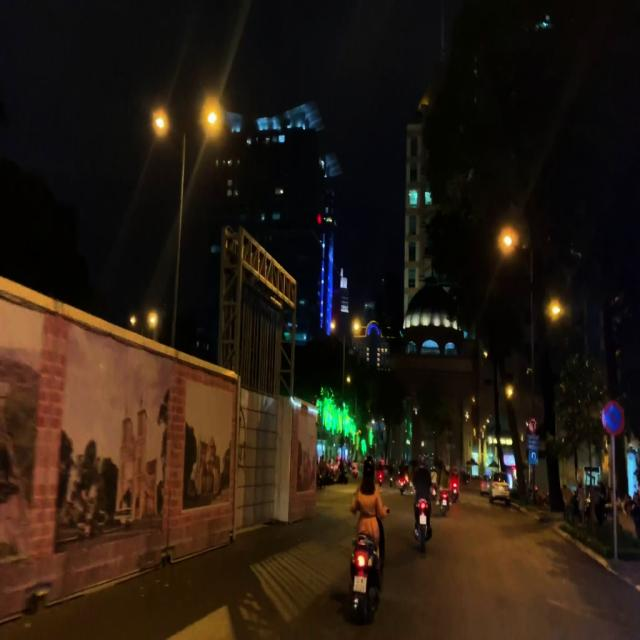cam_do_xe: (604, 403, 622, 434)
cam_re_trai: (529, 418, 539, 433)
cho_quay_xe: (529, 450, 538, 466)
khac: (529, 433, 539, 448)
